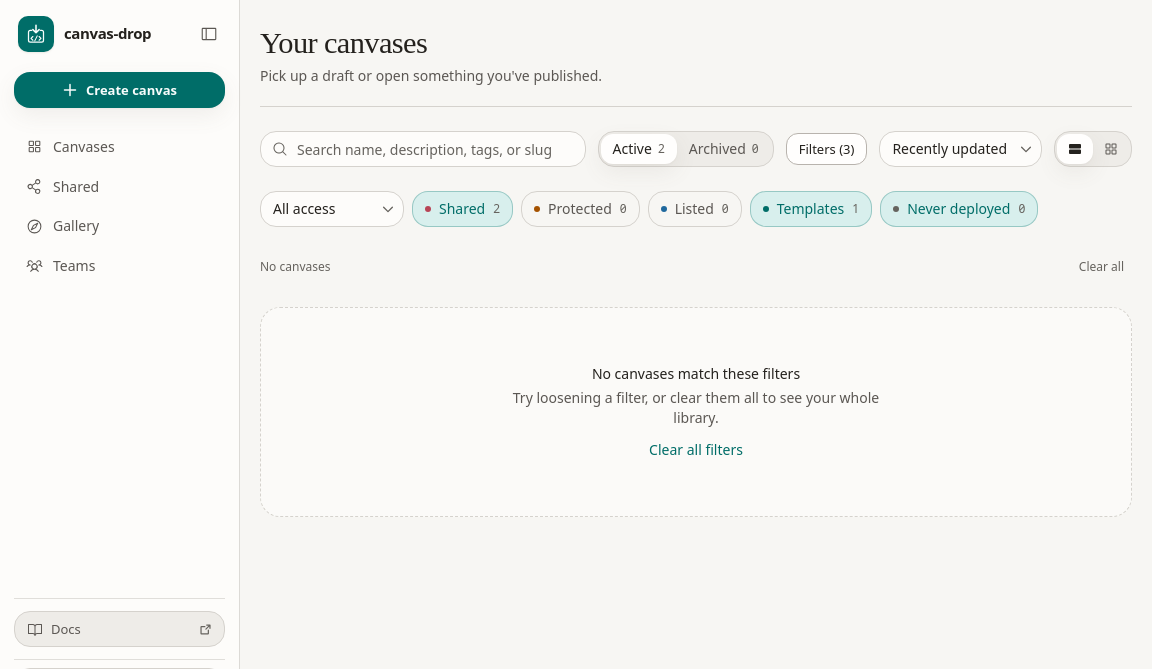
Test: Your canvases — server-side filters (plan 005) › composes filters and shows the filtered-empty state with Clear all filters
expect the text "No canvases match these filters" is shown: met, box [592,364,800,383]
// U7 filtered variant: the single action is "Clear all filters".
Click the button "Clear all filters" at (696, 450), box [649,440,743,460]
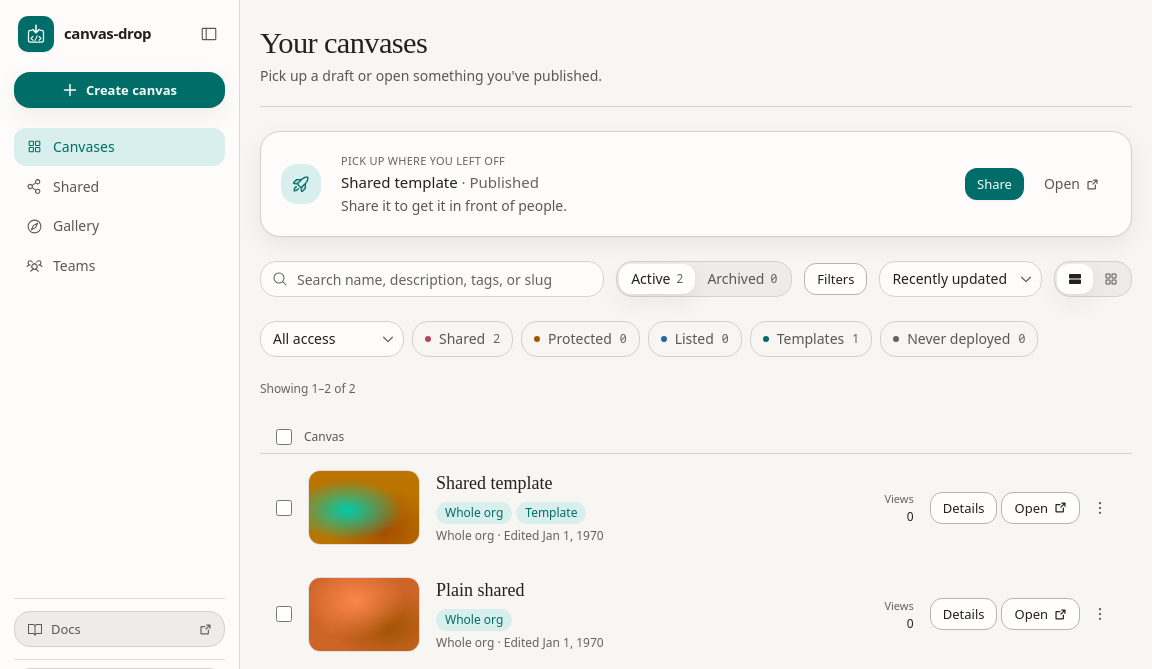
expect the list item that starts with "Shared template" is shown: met, box [260,454,1132,561]
expect the link "Shared template" is shown: met, box [436,473,552,493]
expect the link "Plain shared" is shown: met, box [436,580,524,600]
